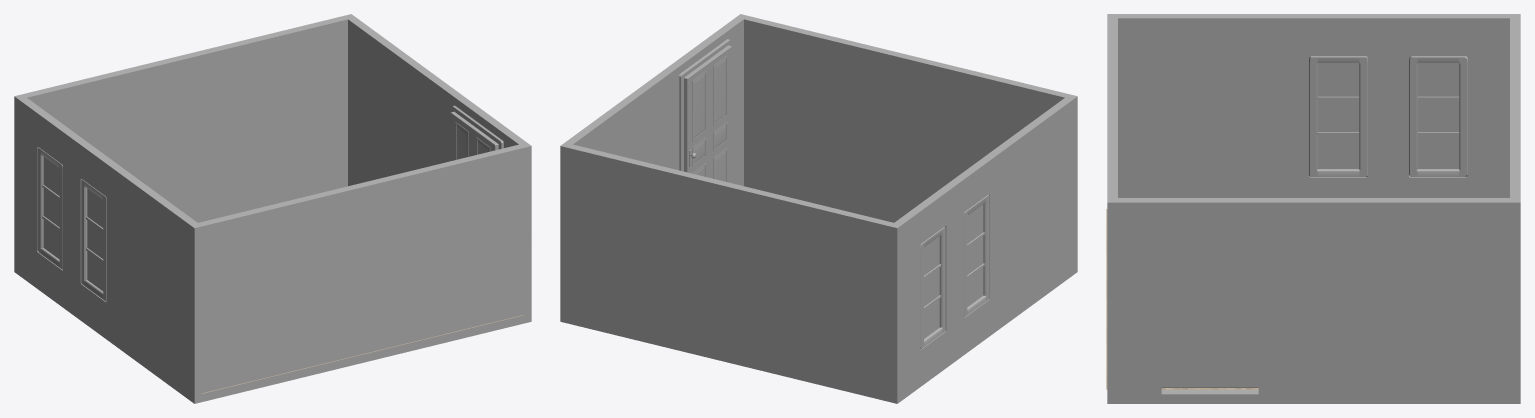
Rendered from fenster.fbx.
The picture shows the model from 3 angles, left to right: view 1: azimuth 30°, elevation 25°; view 2: azimuth 150°, elevation 25°; view 3: azimuth 270°, elevation 25°; orthographic projection. The views are drawn at different scales.
Parts seen in each view (by area): view 1: RoomDoor:Raum, RoomDoor:FensterRahmenCom1, RoomDoor:Fenster:Fensterscheibe1, polySurface1; view 2: RoomDoor:Raum, polySurface1, RoomDoor:FensterRahmenCom1, RoomDoor:Fenster:Fensterscheibe1; view 3: RoomDoor:Raum, polySurface1, RoomDoor:Fenster:Fensterscheibe1, RoomDoor:FensterRahmenCom1, pPlane1.
Boxes of the visible parts, x1,y1,x2,y2 form: RoomDoor:Raum: (14,14,531,403); RoomDoor:FensterRahmenCom1: (37,147,106,301); RoomDoor:Fenster:Fensterscheibe1: (43,157,103,291); polySurface1: (450,111,498,160); RoomDoor:Raum: (560,14,1077,403); polySurface1: (684,45,731,183); RoomDoor:FensterRahmenCom1: (920,195,989,348); RoomDoor:Fenster:Fensterscheibe1: (924,204,983,338); RoomDoor:Raum: (1107,14,1520,403); polySurface1: (1161,219,1258,387); RoomDoor:Fenster:Fensterscheibe1: (1317,63,1459,168); RoomDoor:FensterRahmenCom1: (1309,56,1467,176); pPlane1: (1106,209,1258,389).
Size of the model in its own units: 169 by 84.02 by 157.
